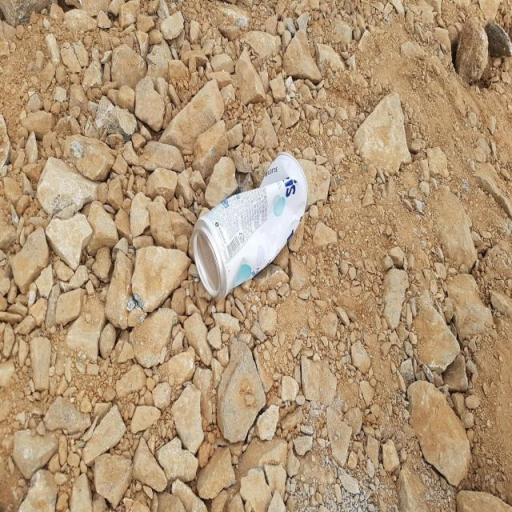metal: (183, 131, 318, 311)
